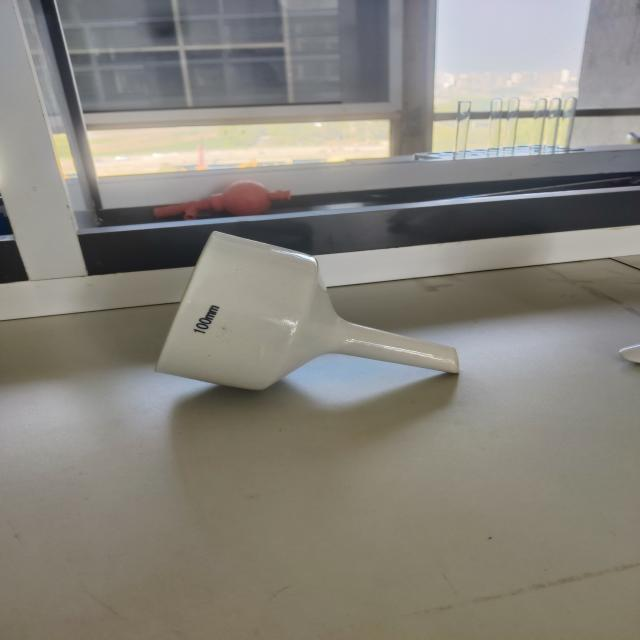Buchner_Funnel: (137, 185, 478, 442)
